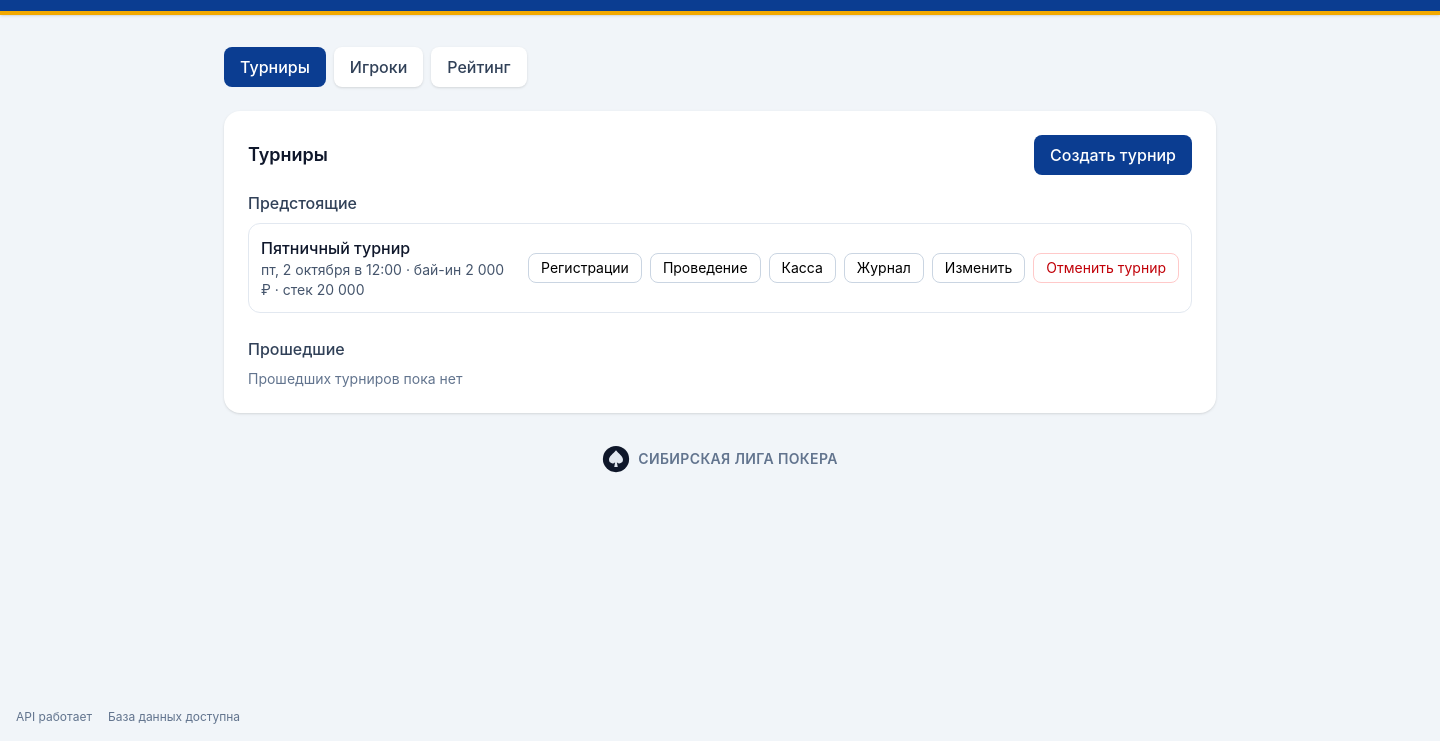
Test case: running a tournament › finds a player by name among those at the tables, knocked out and waiting
Click the button "Проведение" at (705, 268), box 650,253 -> 761,283
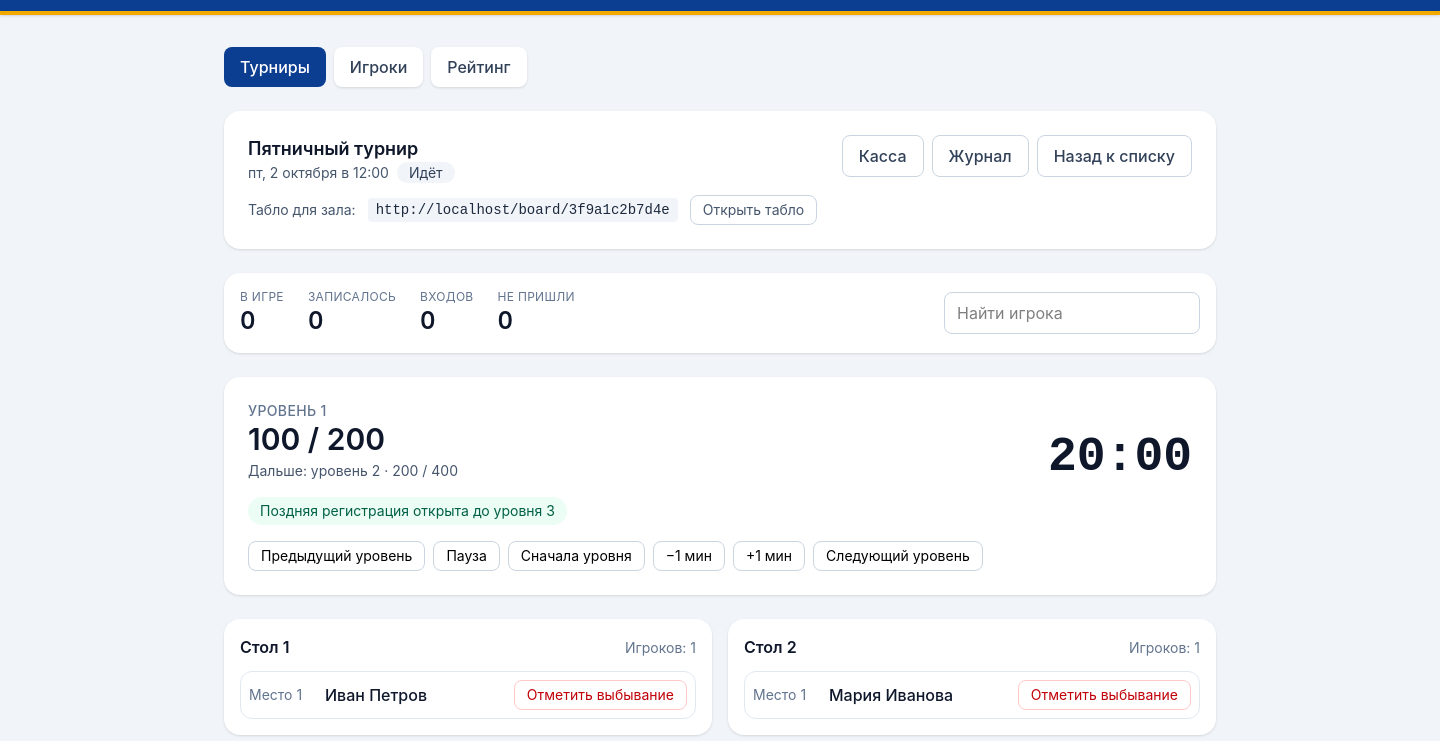
Expected: the heading "Пятничный турнир" is shown, 248,138 -> 418,159
Type "петр" into the search field labelled "Найти игрока" at (1072, 313), box 944,292 -> 1200,334
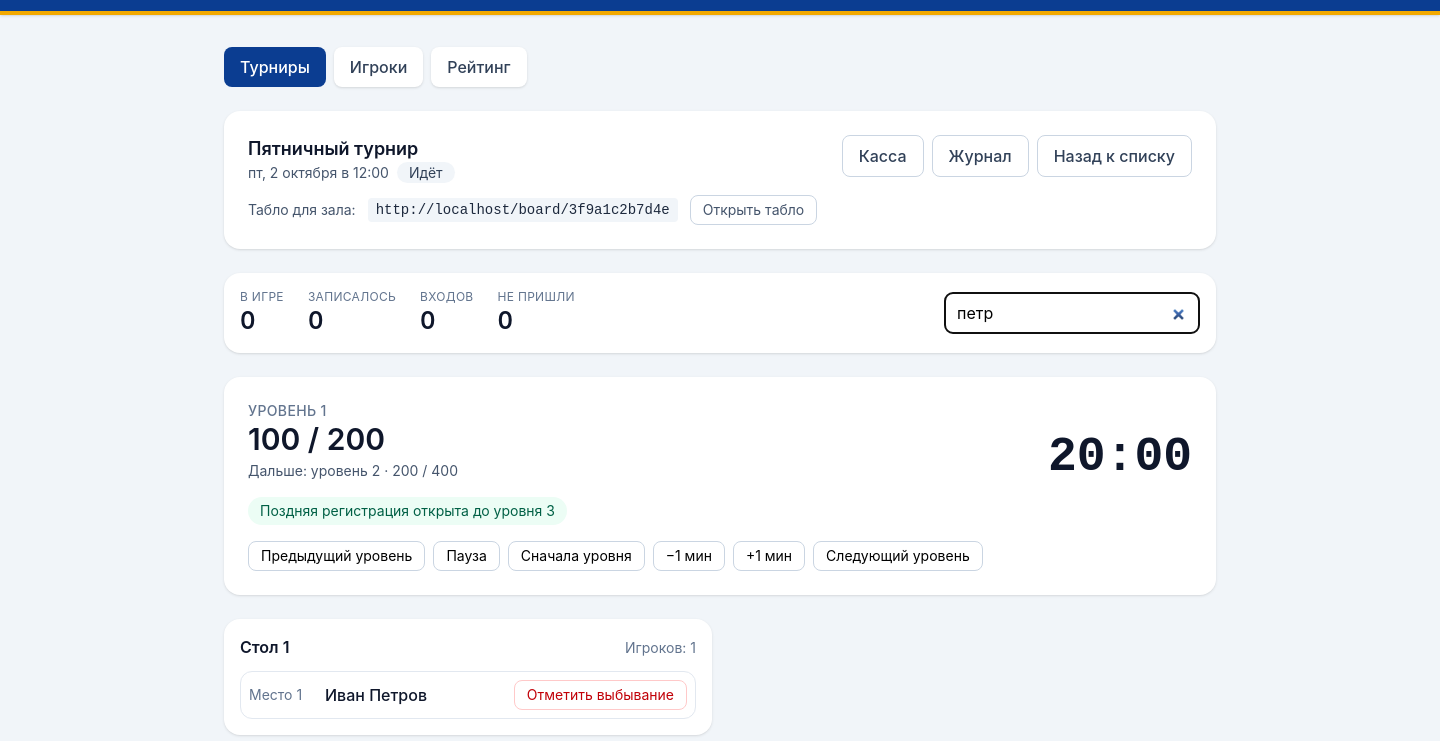
Expected: the list item "Иван Петров" is shown, 241,672 -> 695,718
Expected: the heading "Стол 2" is gone
Clear the search field named "Найти игрока" at (1072, 313), box 944,292 -> 1200,334
(page scrolled)
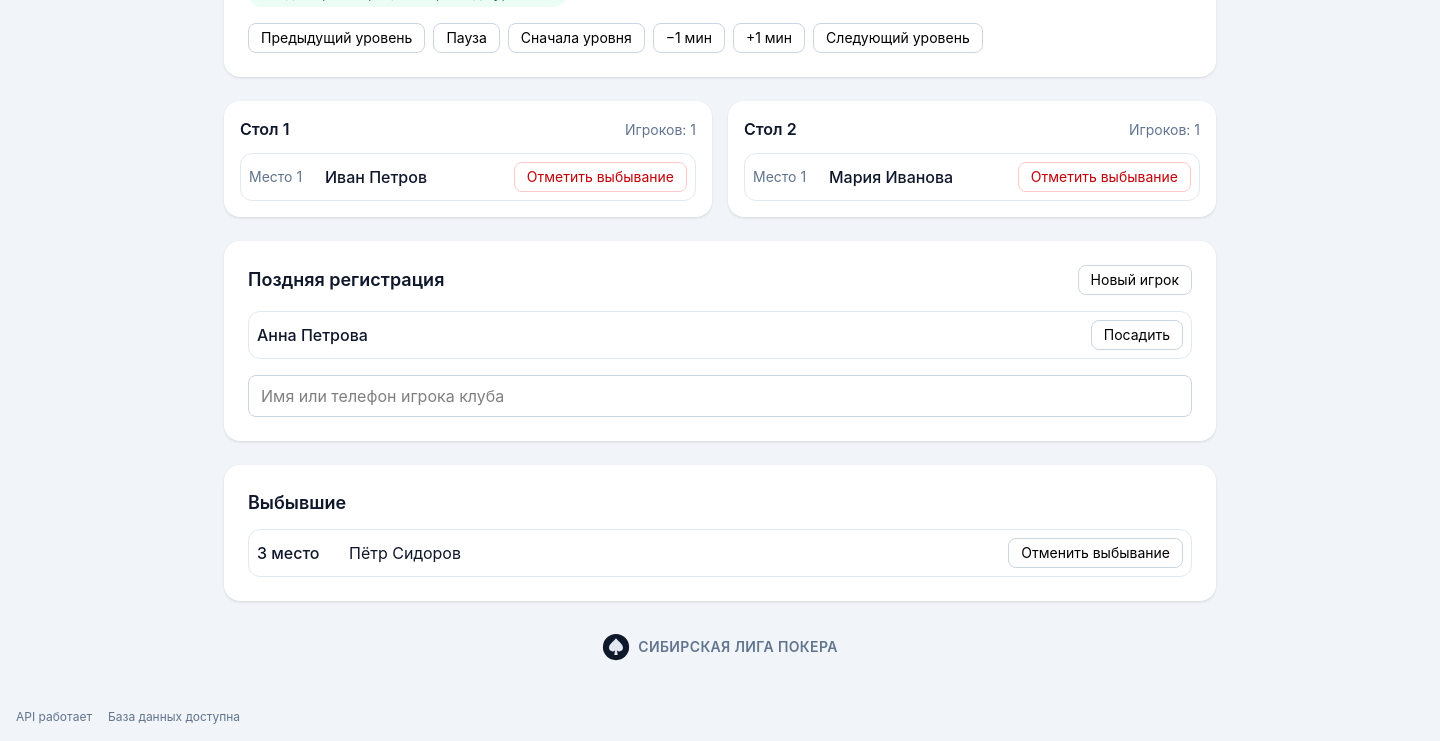
Expected: the element "Стол 2" is shown, 728,101 -> 1216,217
Expected: the list named "Выбывшие" is shown, 248,529 -> 1192,577
